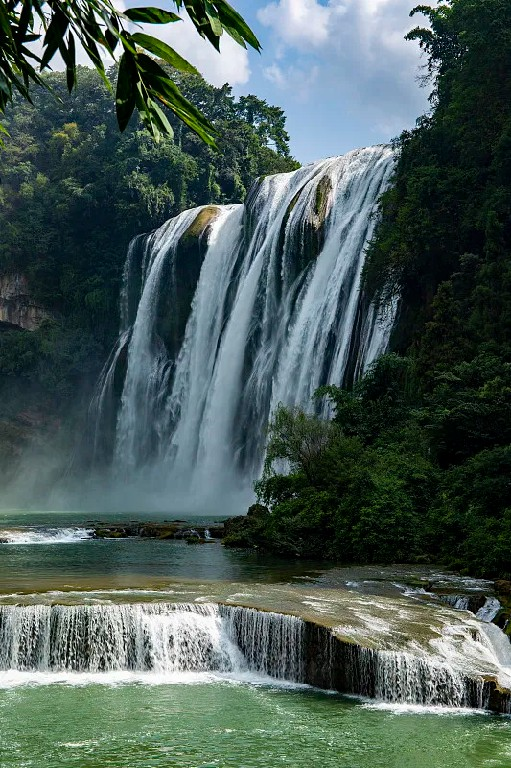Huangguoshu: (99, 144, 401, 512)
